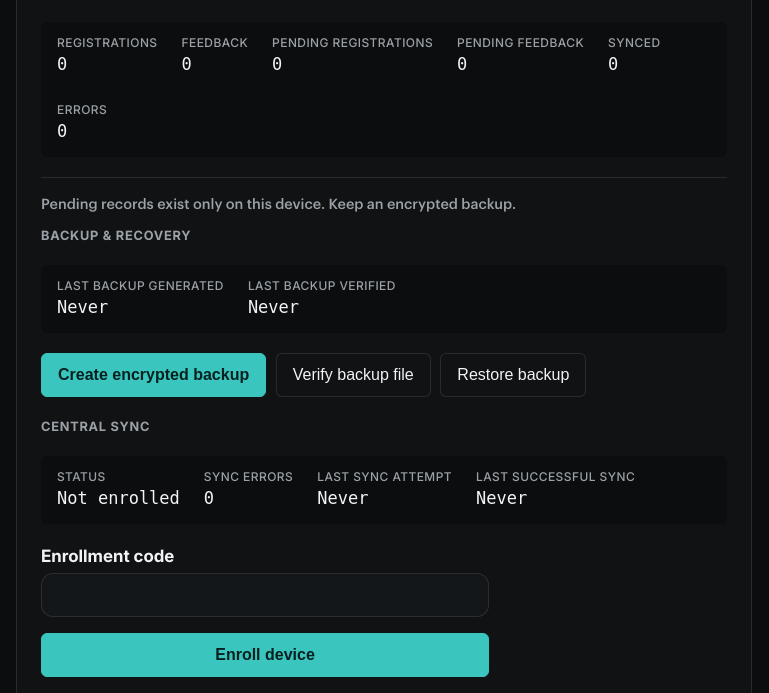
Test case: creating a backup › warns that the passphrase cannot be recovered
This screenshot has width=769, height=693.
(page scrolled)
What coordinates should you click on to do the following:
click the button "Create encrypted backup"
I would click on:
 (154, 375)
Its box is [41,353,266,397].
(page scrolled)
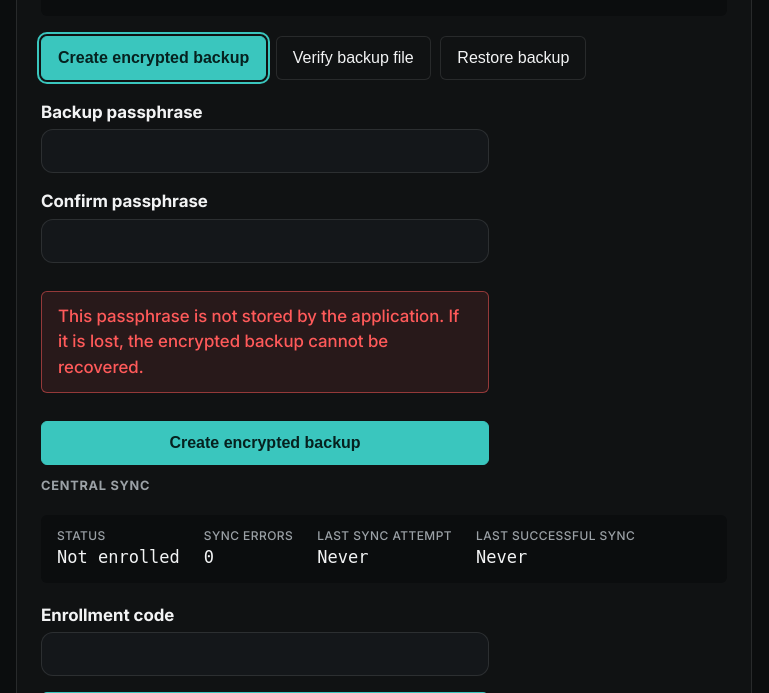
expect the text "not stored by the application" is shown: met, box [58,306,459,377]
